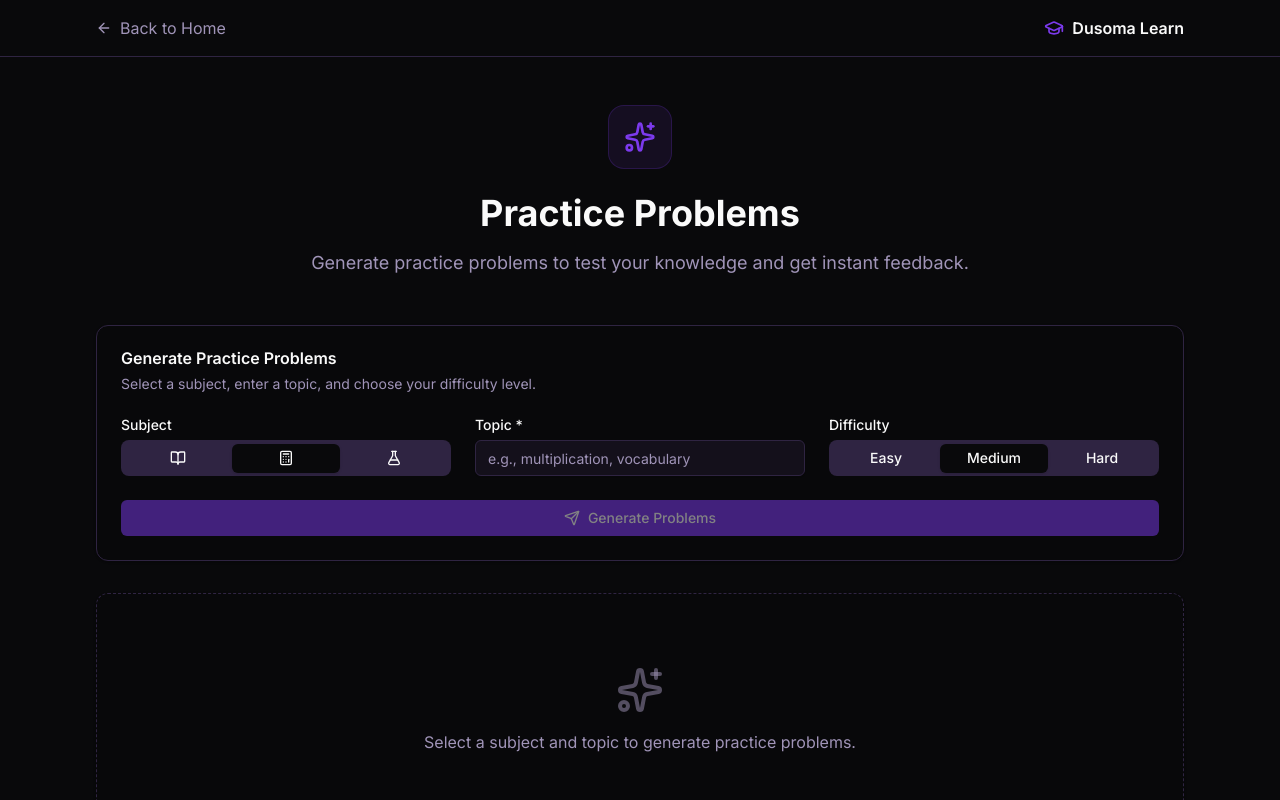
Test: Practice Page › Form Interaction › submit button is enabled when topic has value
Type "multiplication" into the field labelled "Topic *". click: (640, 458)
box: [475,440,805,476]
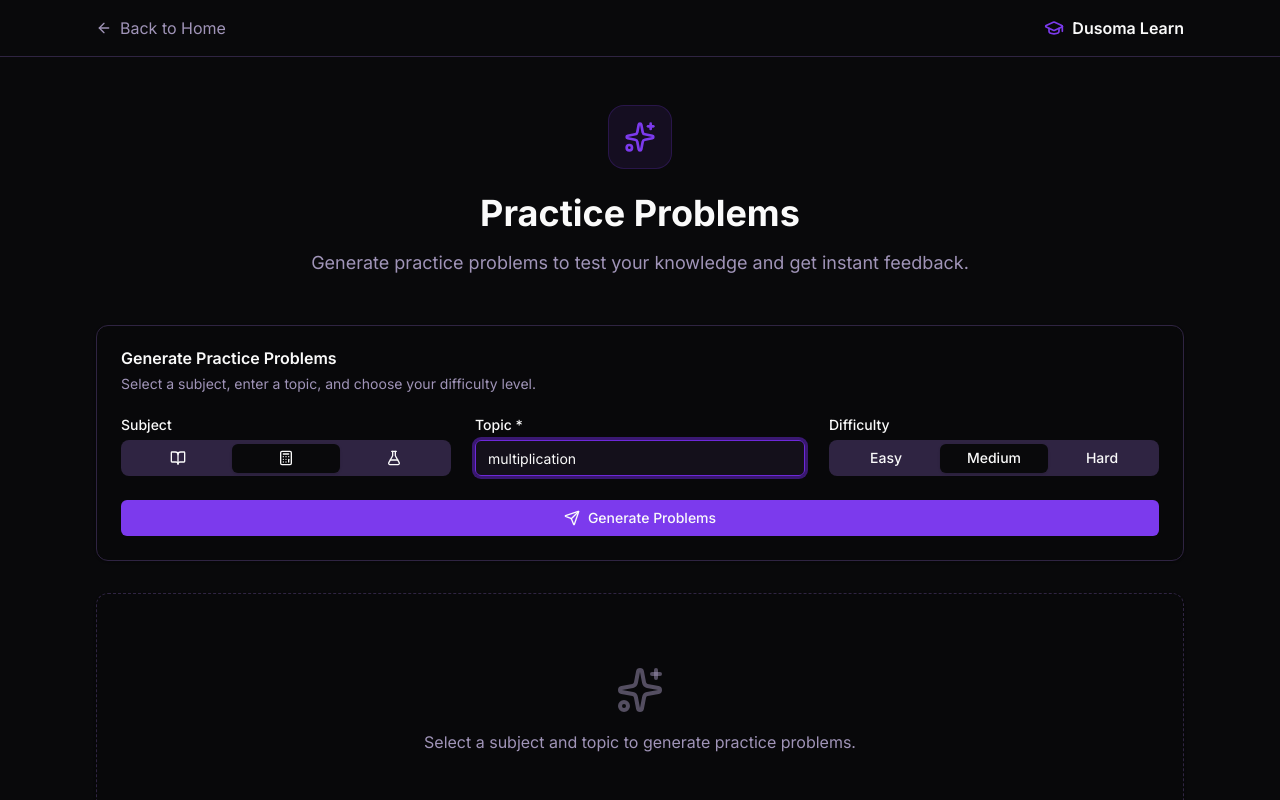
Result: the button "Generate Problems" is enabled at [121,500,1159,536]
